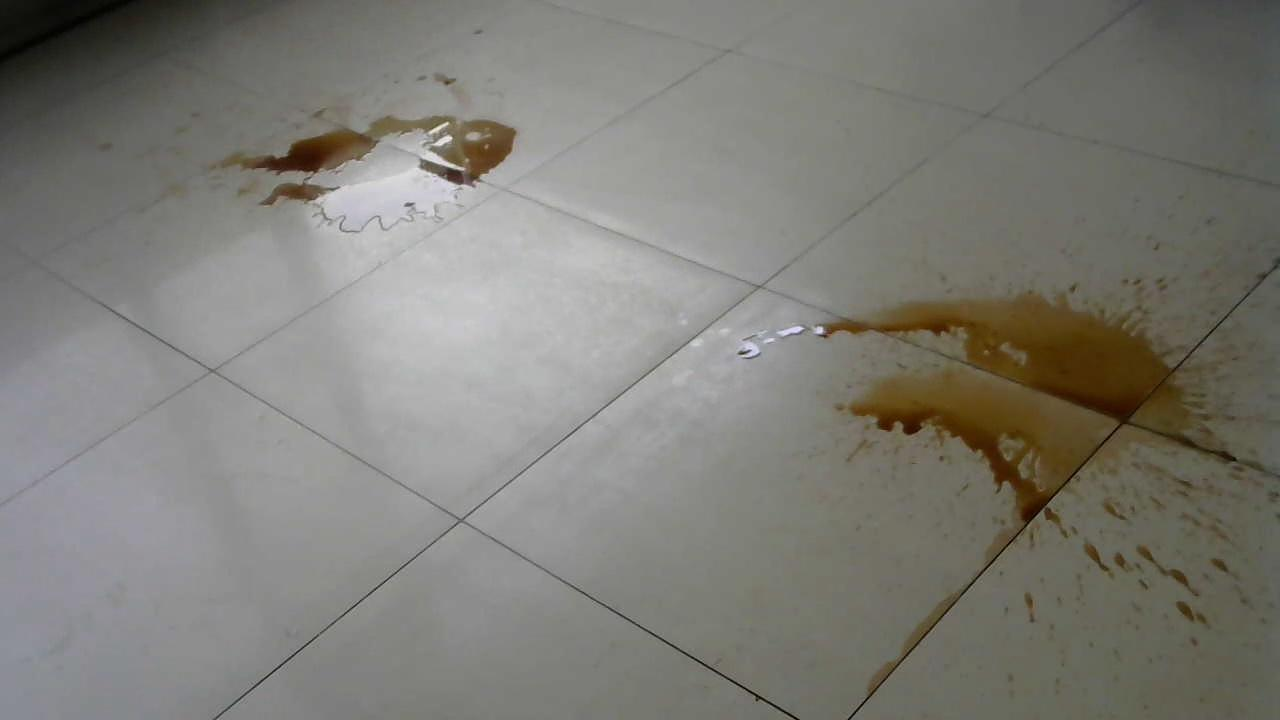dirty_floor: (725, 256, 1279, 672), (200, 69, 521, 240)
